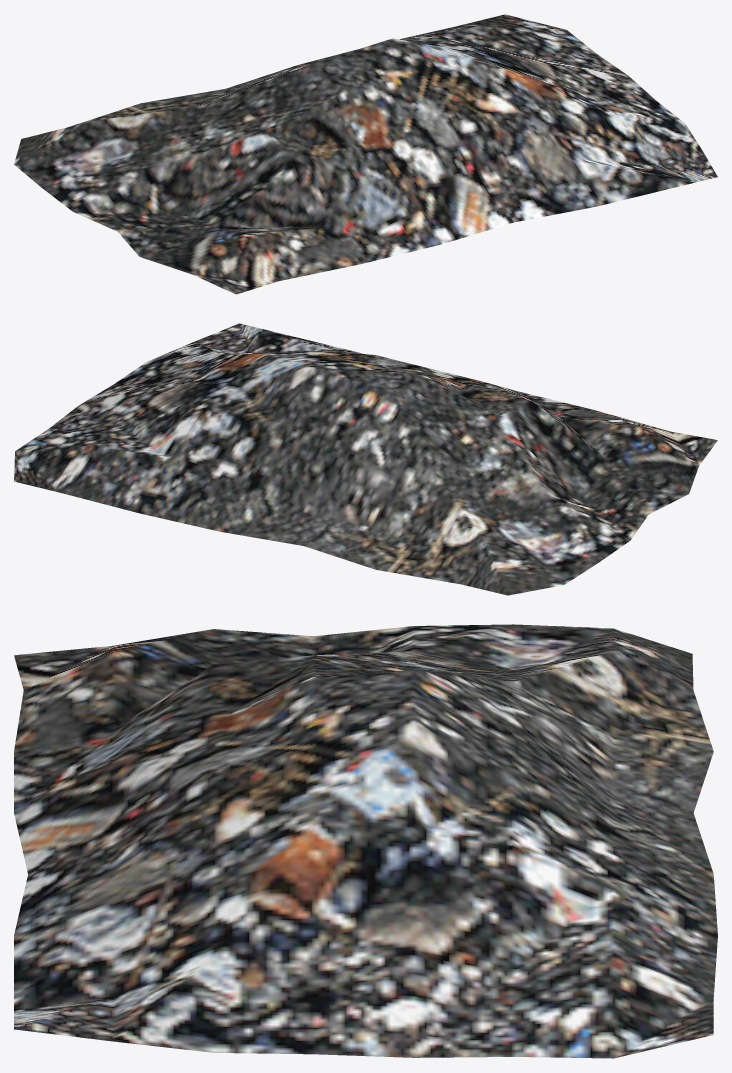
Rendered from Rubbish2_SM.fbx.
3 renders of one model, top to bottom at view 1: azimuth 30°, elevation 25°; view 2: azimuth 150°, elevation 25°; view 3: azimuth 270°, elevation 25°, orthographic. The views are drawn at different scales.
Parts seen in each view (by area): view 1: Plane004; view 2: Plane004; view 3: Plane004.
Part boxes in pixels (x1,y1,x2,y2): Plane004: [14, 14, 717, 294]; Plane004: [14, 323, 717, 595]; Plane004: [14, 624, 717, 1058].
Size of the model in its own units: 236 by 38.69 by 163.
